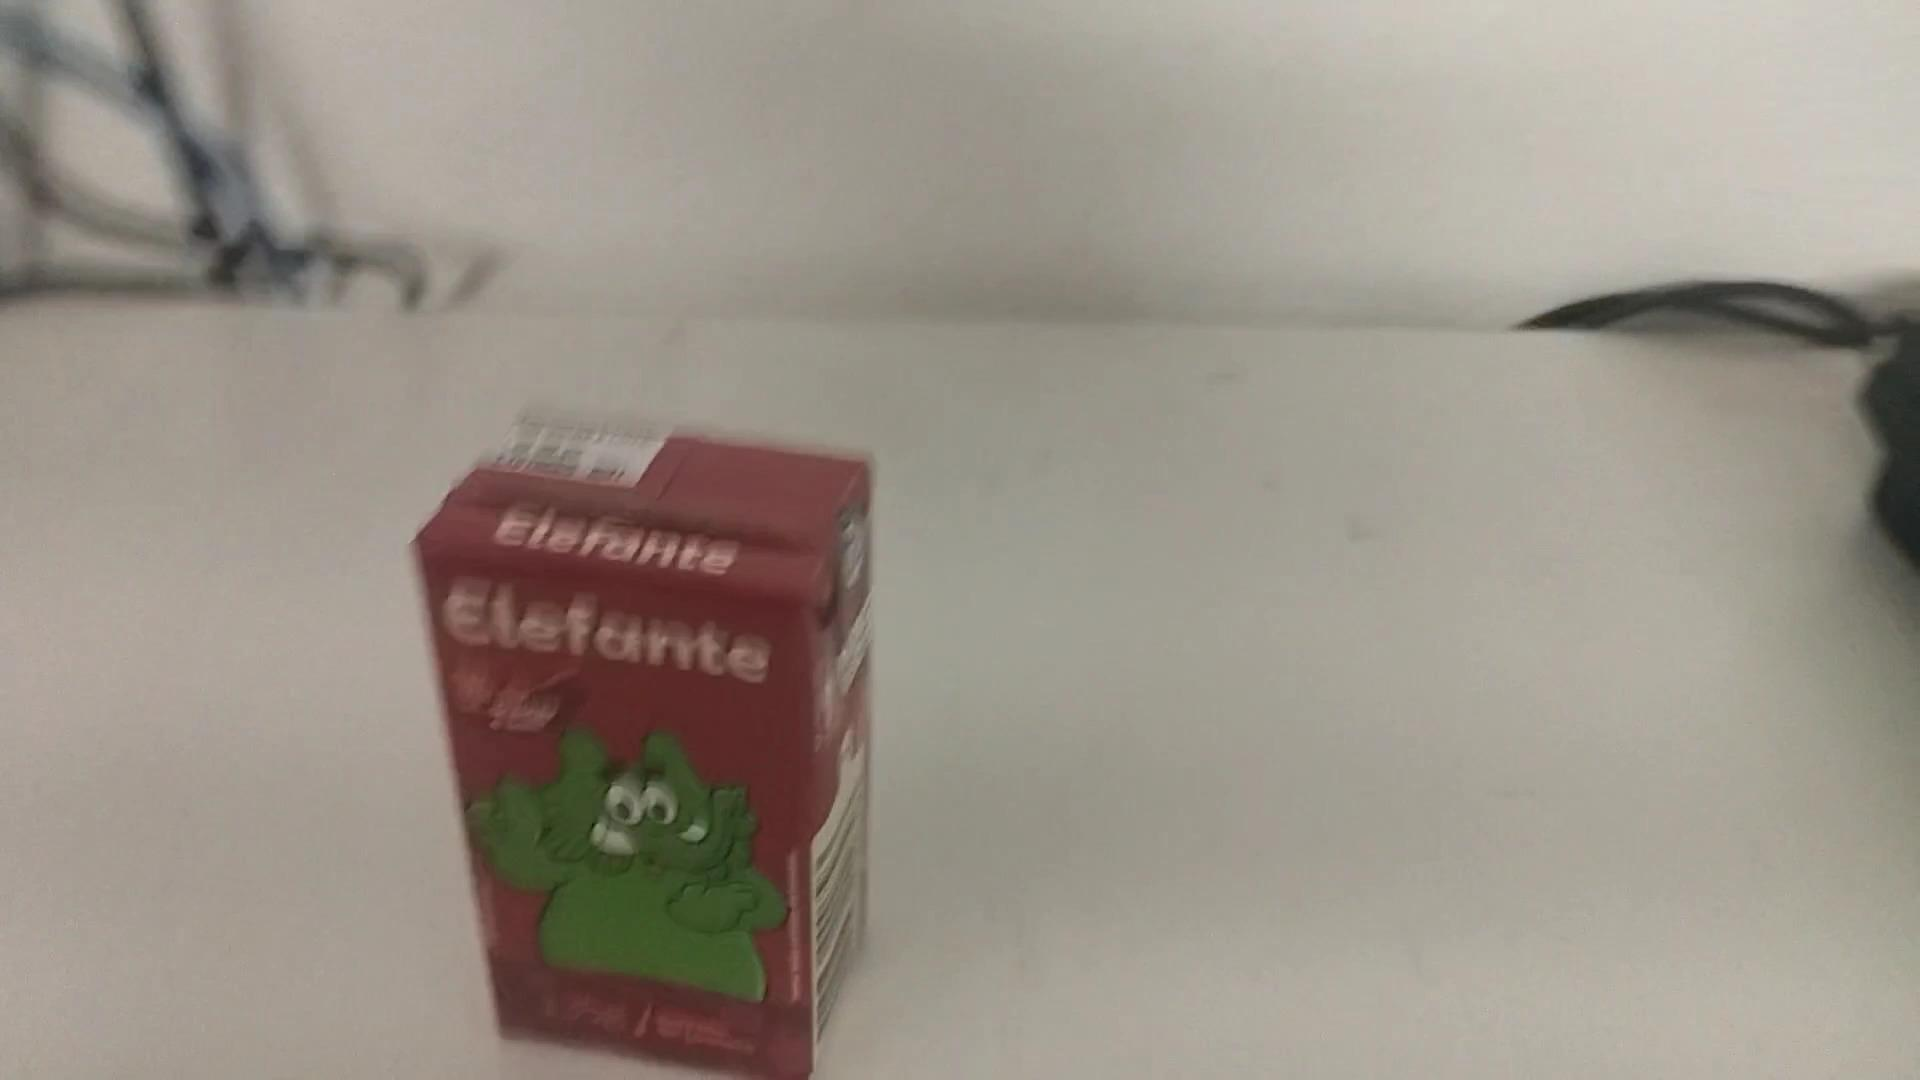tomate: (405, 400, 884, 1069)
